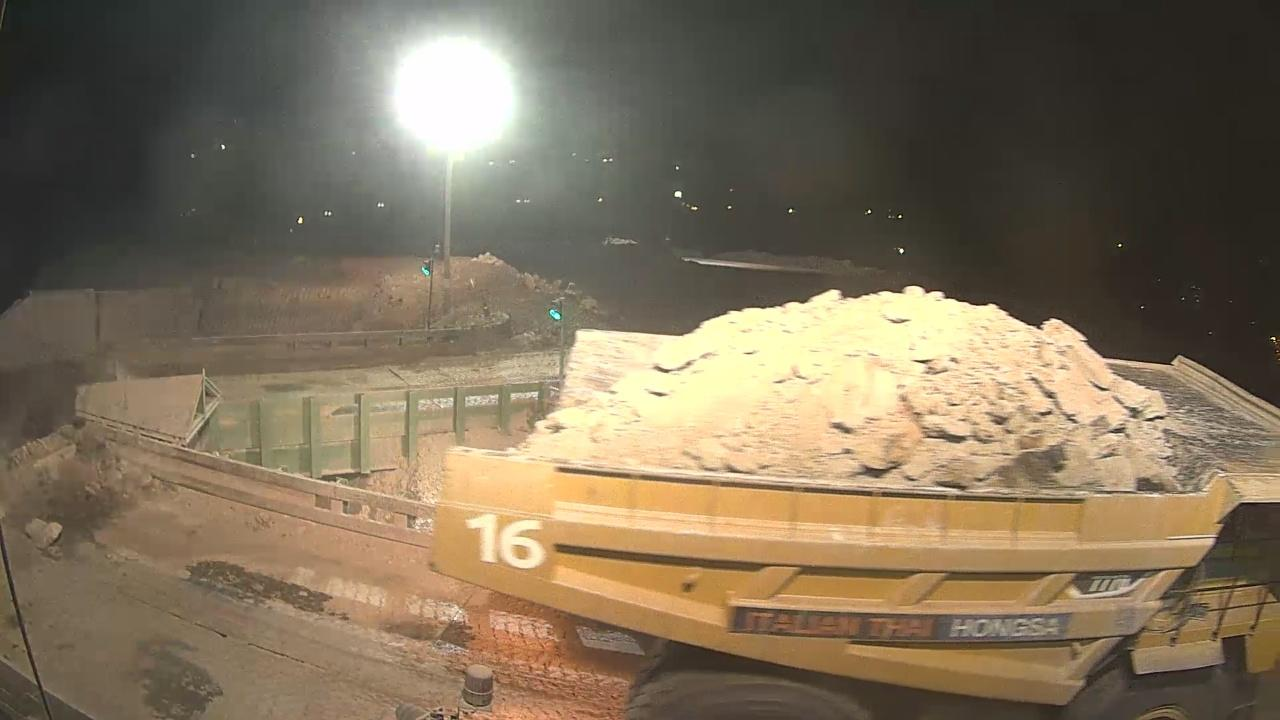company: (729, 598, 1079, 652)
full_load: (602, 291, 1206, 519)
mining_truck: (431, 262, 1280, 720)
tail_number: (468, 507, 554, 584)
truck_size: (1071, 569, 1154, 601)
